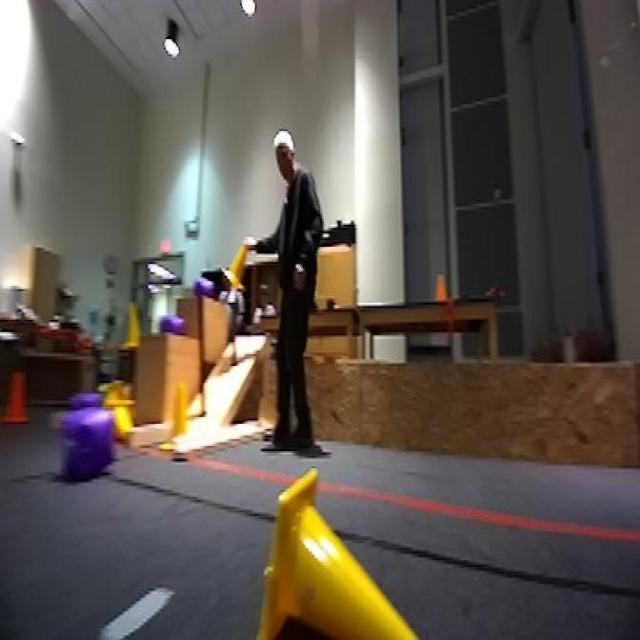frc_cone: (259, 454, 445, 626), (162, 381, 191, 451), (219, 242, 255, 292), (119, 301, 144, 354), (114, 395, 136, 439), (101, 376, 131, 404)
frc_cube: (65, 410, 115, 487), (158, 310, 189, 334), (188, 276, 214, 300), (69, 392, 101, 410)
